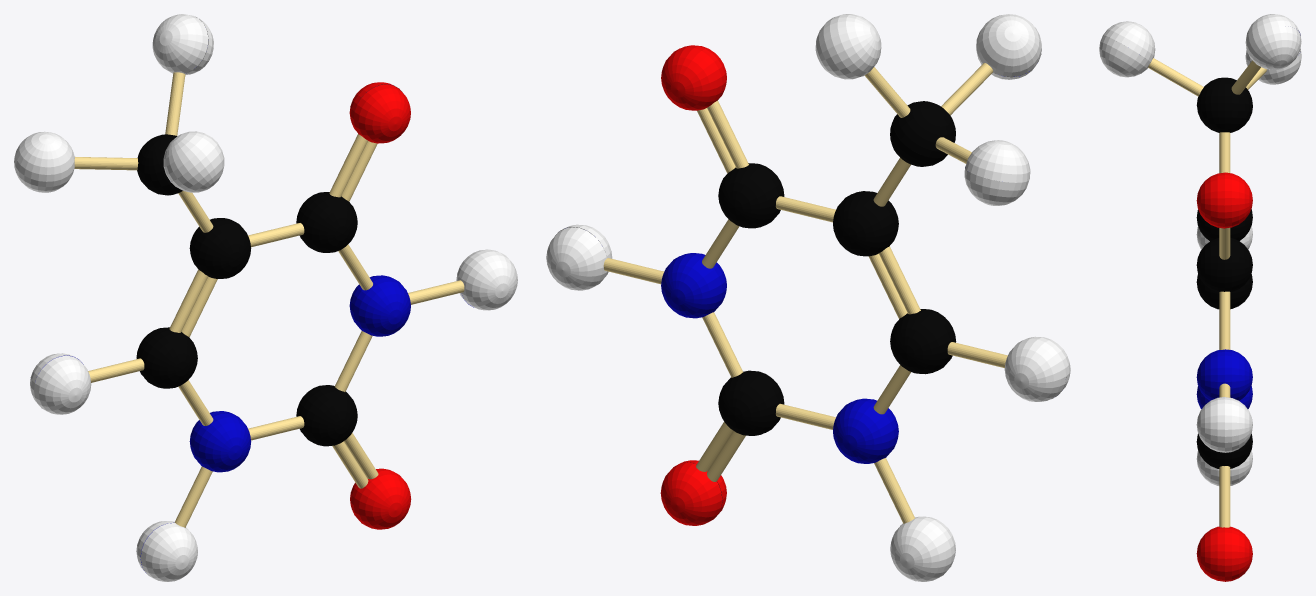
The picture shows the model from 3 angles, left to right: view 1: azimuth 30°, elevation 25°; view 2: azimuth 150°, elevation 25°; view 3: azimuth 270°, elevation 25°; orthographic projection. The views are drawn at different scales.
Visible parts, largest first — view 1: thymine; view 2: thymine; view 3: thymine.
Part boxes in pixels (<box>): thymine: <box>14,14,517,581</box>; thymine: <box>546,14,1070,581</box>; thymine: <box>1099,14,1301,581</box>.
Size of the model in its own units: 177 by 188 by 70.89.
